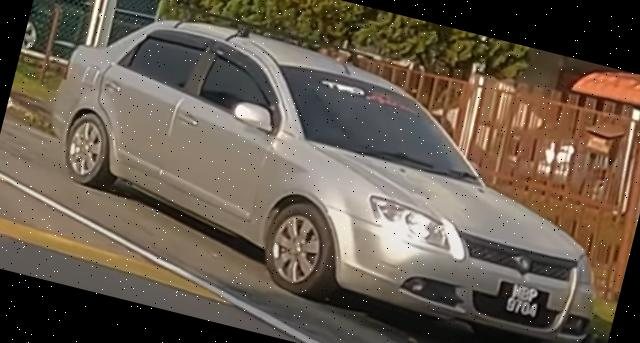License_Plate: (501, 280, 546, 321)
car: (21, 1, 640, 343)
